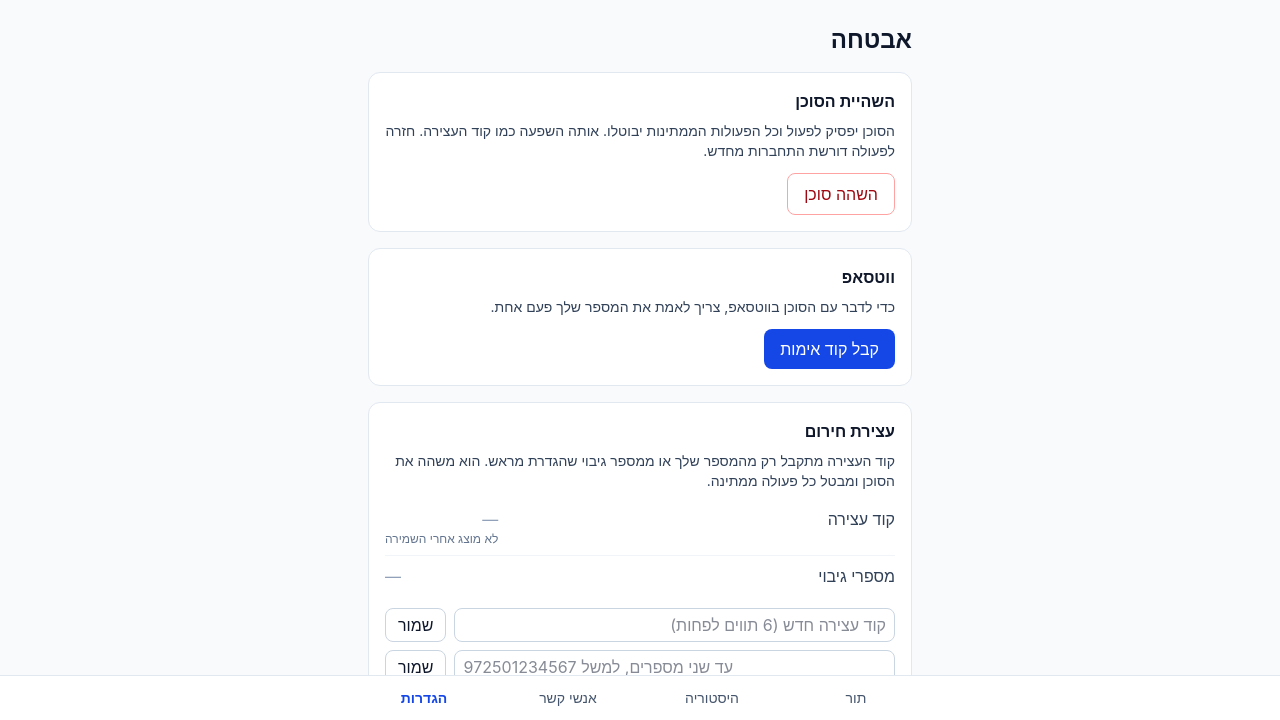
Test: security screen › shows the code to send for WhatsApp verification (ADR-017)
What coordinates should you click on to do the following:
click the button "קבל קוד אימות"
I would click on:
 (830, 349)
Its box is [764,329,895,369].
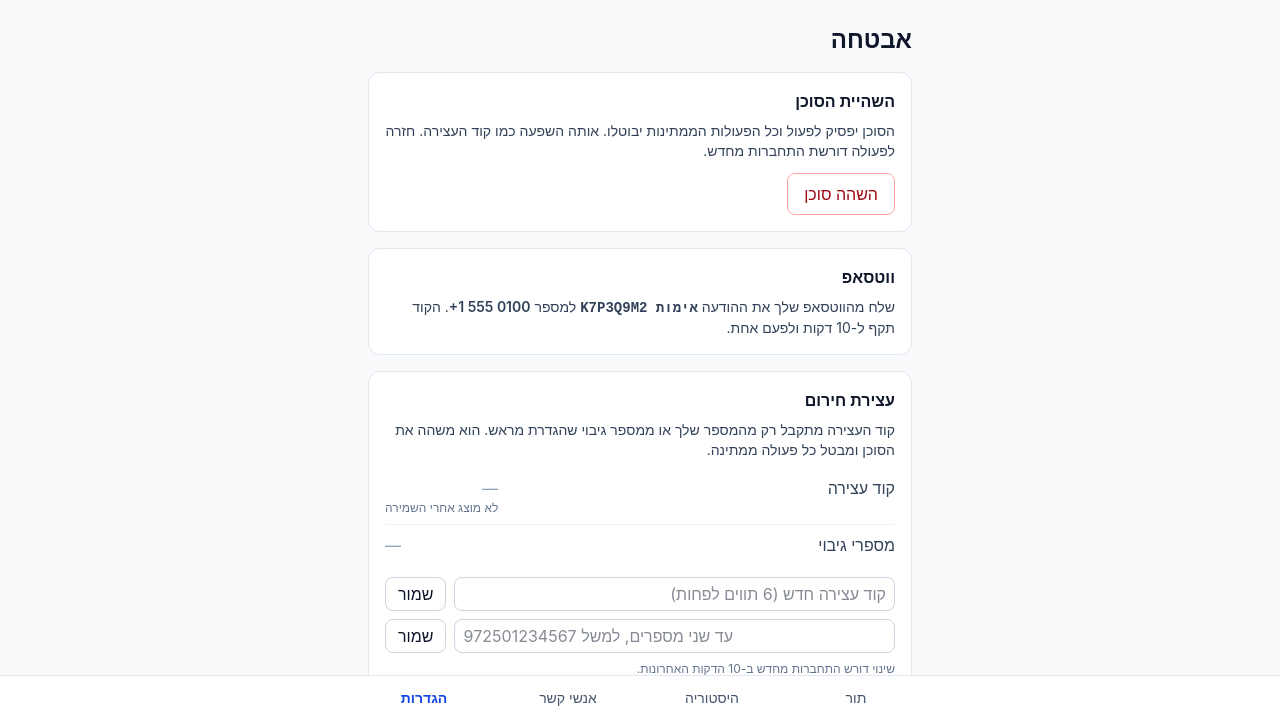
Result: the text "אימות K7P3Q9M2" is shown at [580,300,698,316]
Result: the text "+1 555 0100" is shown at [449,298,531,315]
